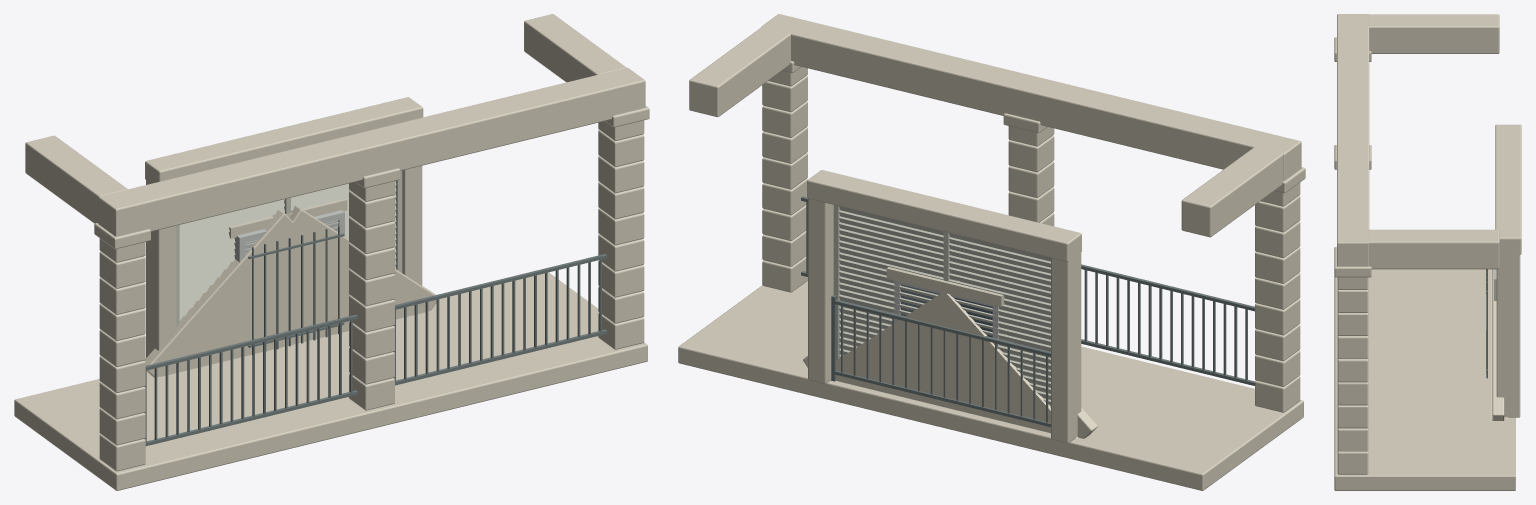
The model's file is neighborhood_facades.glb.
3 views of the same model, side by side, from view 1: azimuth 30°, elevation 25°; view 2: azimuth 150°, elevation 25°; view 3: azimuth 270°, elevation 25° (orthographic). The views are drawn at different scales.
Parts seen in each view (by area): view 1: Portico_Limestone, GableFront_Limestone, Portico_PaintedMetal, GarageGate_Limestone, GarageGate_GateEnamel, BarredWindow_PaintedMetal, BarredWindow_Limestone, BarredWindow_Aluminium; view 2: Portico_Limestone, GarageGate_GateEnamel, GarageGate_Limestone, GableFront_Limestone, Portico_PaintedMetal, Railing_PaintedMetal, BarredWindow_Limestone, BarredWindow_Aluminium; view 3: Portico_Limestone, GarageGate_Limestone, GableFront_Limestone, BarredWindow_PaintedMetal.
Boxes of the visible parts, x1=… form: Portico_Limestone: x1=14, y1=14, x2=649, y2=490; GableFront_Limestone: x1=144, y1=205, x2=436, y2=377; Portico_PaintedMetal: x1=144, y1=253, x2=607, y2=446; GarageGate_Limestone: x1=145, y1=97, x2=423, y2=357; GarageGate_GateEnamel: x1=176, y1=170, x2=402, y2=326; BarredWindow_PaintedMetal: x1=248, y1=226, x2=344, y2=354; BarredWindow_Limestone: x1=229, y1=198, x2=347, y2=238; BarredWindow_Aluminium: x1=234, y1=210, x2=344, y2=262; Portico_Limestone: x1=678, y1=14, x2=1305, y2=490; GarageGate_GateEnamel: x1=833, y1=205, x2=1050, y2=407; GarageGate_Limestone: x1=807, y1=170, x2=1081, y2=443; GableFront_Limestone: x1=803, y1=275, x2=1097, y2=439; Portico_PaintedMetal: x1=801, y1=196, x2=1254, y2=385; Railing_PaintedMetal: x1=831, y1=295, x2=1050, y2=426; BarredWindow_Limestone: x1=886, y1=267, x2=1004, y2=306; BarredWindow_Aluminium: x1=894, y1=280, x2=998, y2=348; Portico_Limestone: x1=1334, y1=14, x2=1515, y2=490; GarageGate_Limestone: x1=1495, y1=124, x2=1521, y2=417; GableFront_Limestone: x1=1491, y1=269, x2=1508, y2=420; BarredWindow_PaintedMetal: x1=1486, y1=269, x2=1487, y2=378.
Bounding box in the file's own units: 6.44 × 3.23 × 2.21.
